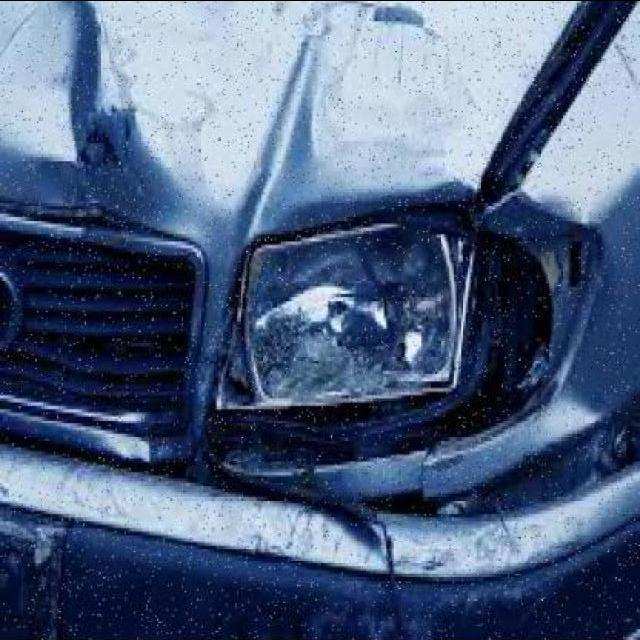Headlight-Damage: (210, 221, 573, 441)
bonnet-dent: (0, 0, 478, 211)
front-bumper-dent: (0, 434, 629, 638)
